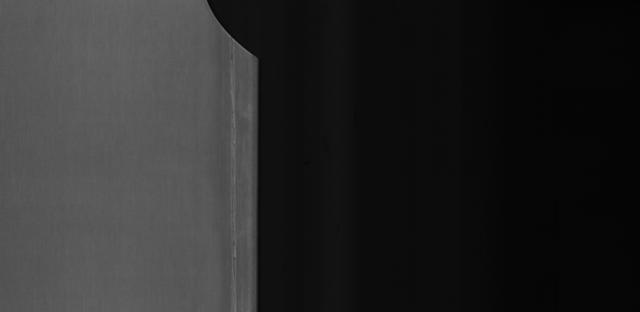crescent_gap: (198, 0, 268, 70)
